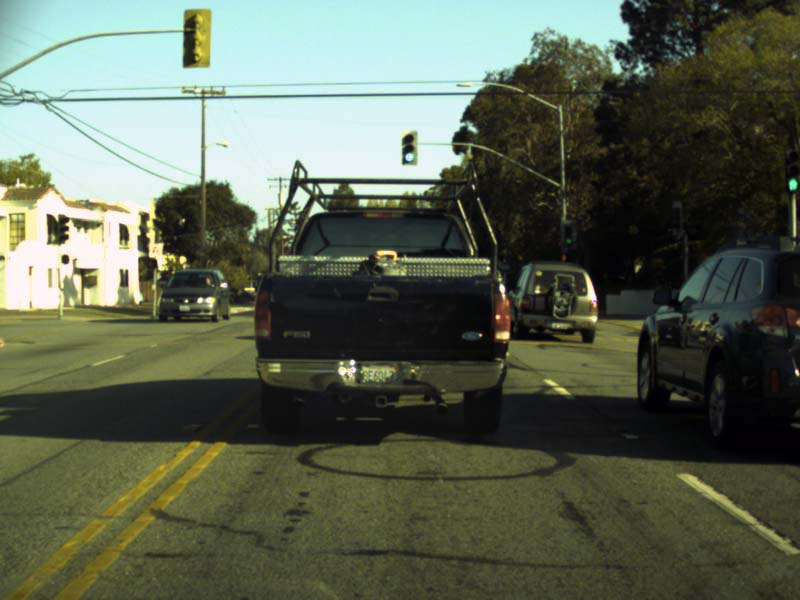Green: (785, 150, 799, 192), (402, 130, 417, 164), (562, 223, 574, 245)
